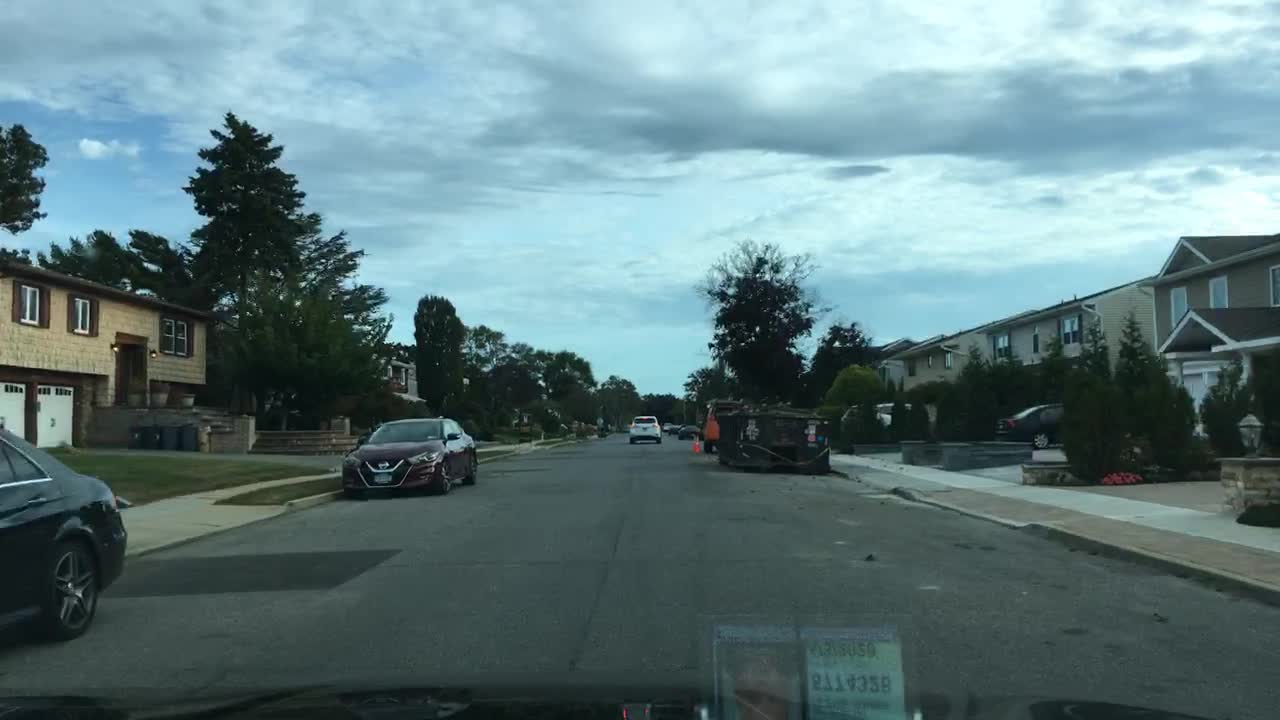car: (0, 423, 134, 648), (334, 417, 479, 501), (986, 400, 1072, 448), (835, 398, 919, 444), (696, 396, 744, 448), (626, 414, 662, 446), (677, 423, 700, 442), (668, 419, 683, 433)
